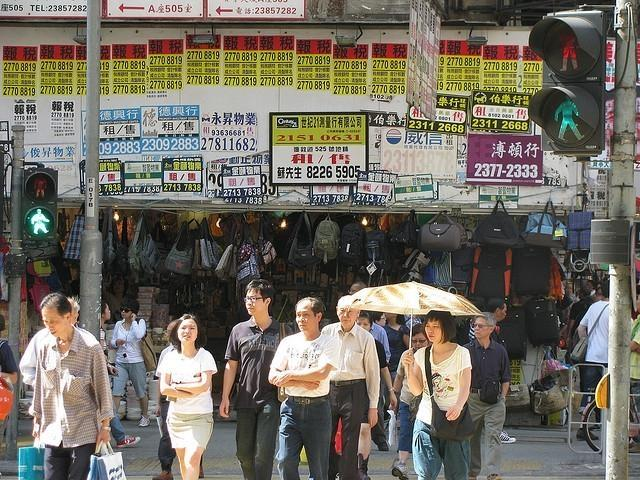bicycle: (579, 380, 640, 456)
